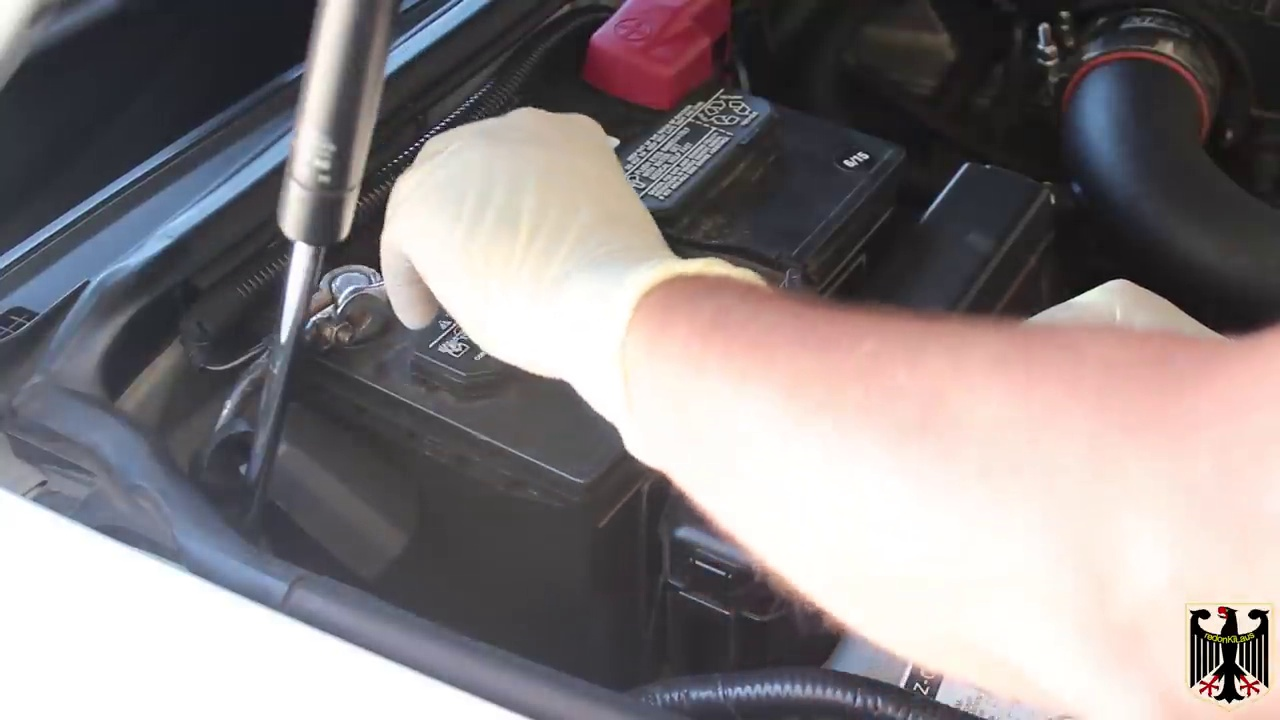battery: (284, 36, 904, 506)
neg_connected: (230, 207, 394, 343)
neg_touched: (283, 178, 505, 375)
pos_connected: (557, 1, 761, 164)
